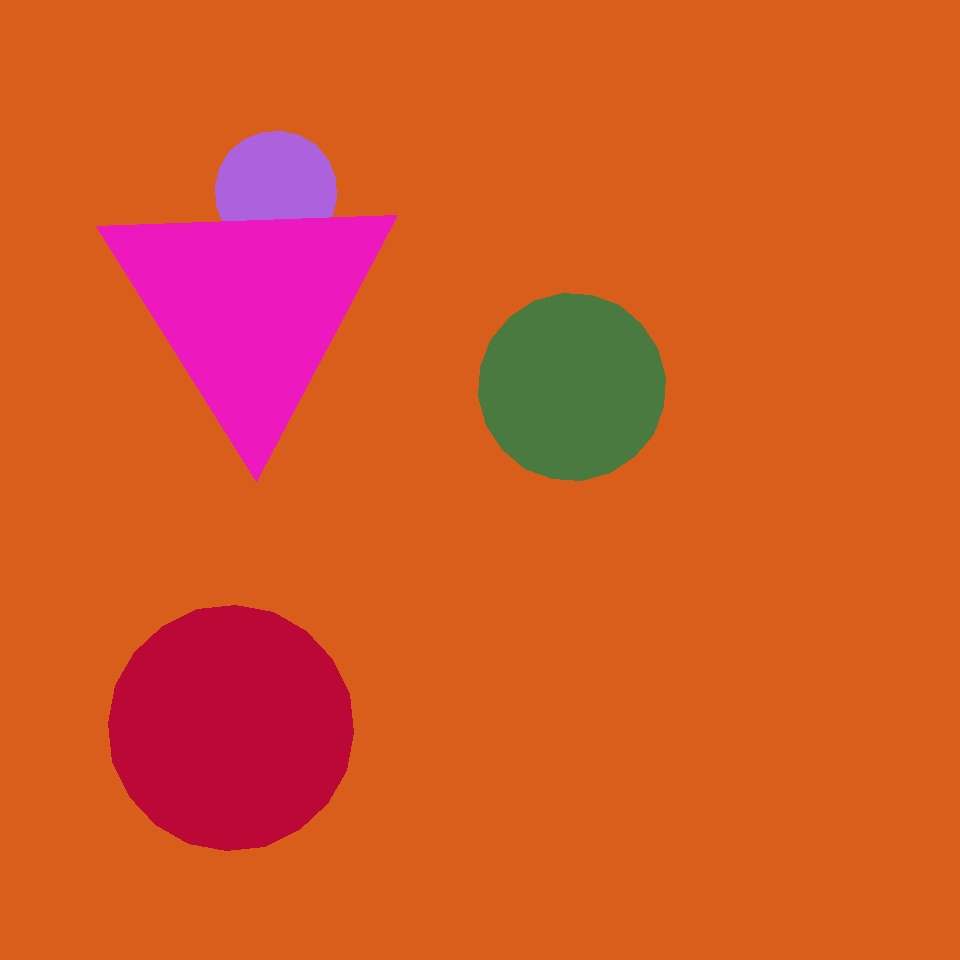circle: (100, 175, 401, 441), (265, 362, 457, 575)
square: (446, 180, 771, 504), (671, 370, 888, 587)
triangle: (109, 606, 354, 850), (478, 294, 666, 480), (215, 132, 336, 253)
